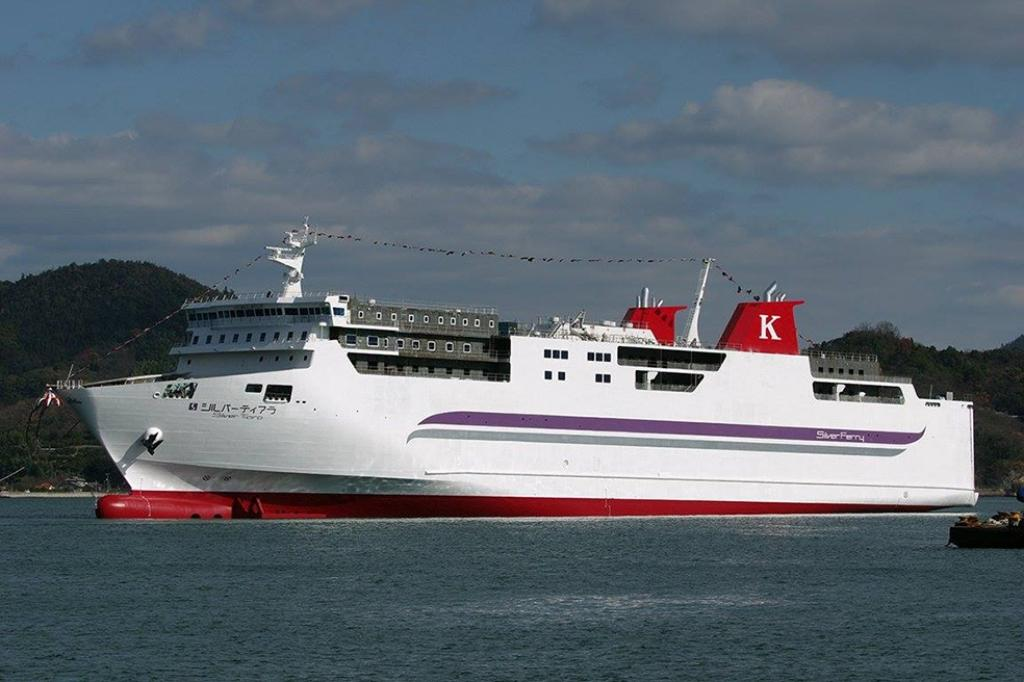PassengerShip: (44, 224, 982, 538)
